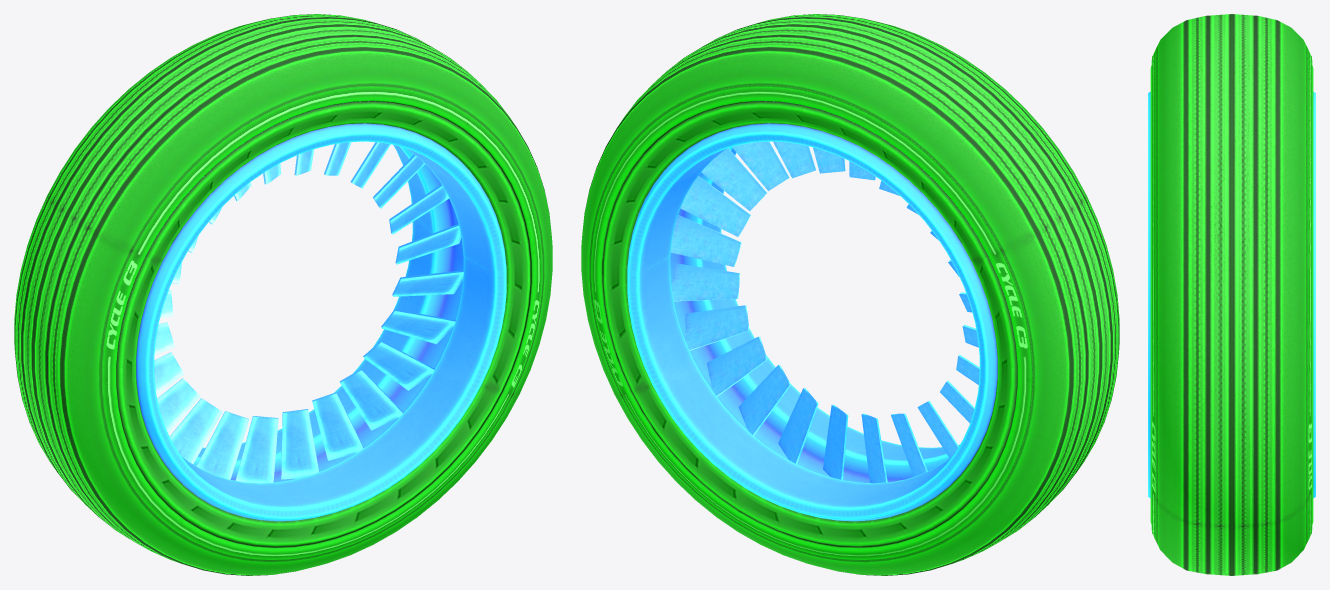
File: SM_CP_Motorcycle01_Tire.fbx
3 views of the same model, side by side, from view 1: azimuth 30°, elevation 25°; view 2: azimuth 150°, elevation 25°; view 3: azimuth 270°, elevation 25° (orthographic). The views are drawn at different scales.
Visible parts, largest first — view 1: SM_CP_Motorcycle01_Tire_LOD0; view 2: SM_CP_Motorcycle01_Tire_LOD0; view 3: SM_CP_Motorcycle01_Tire_LOD0.
Part boxes in pixels (x1,y1,x2,y2): SM_CP_Motorcycle01_Tire_LOD0: [14, 14, 552, 575]; SM_CP_Motorcycle01_Tire_LOD0: [581, 14, 1119, 575]; SM_CP_Motorcycle01_Tire_LOD0: [1148, 14, 1315, 575].
Size of the model in its own units: 81.1 by 24.25 by 81.1.
